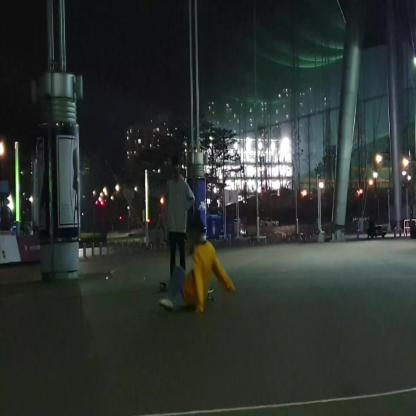Fall_Down: (159, 213, 235, 316)
